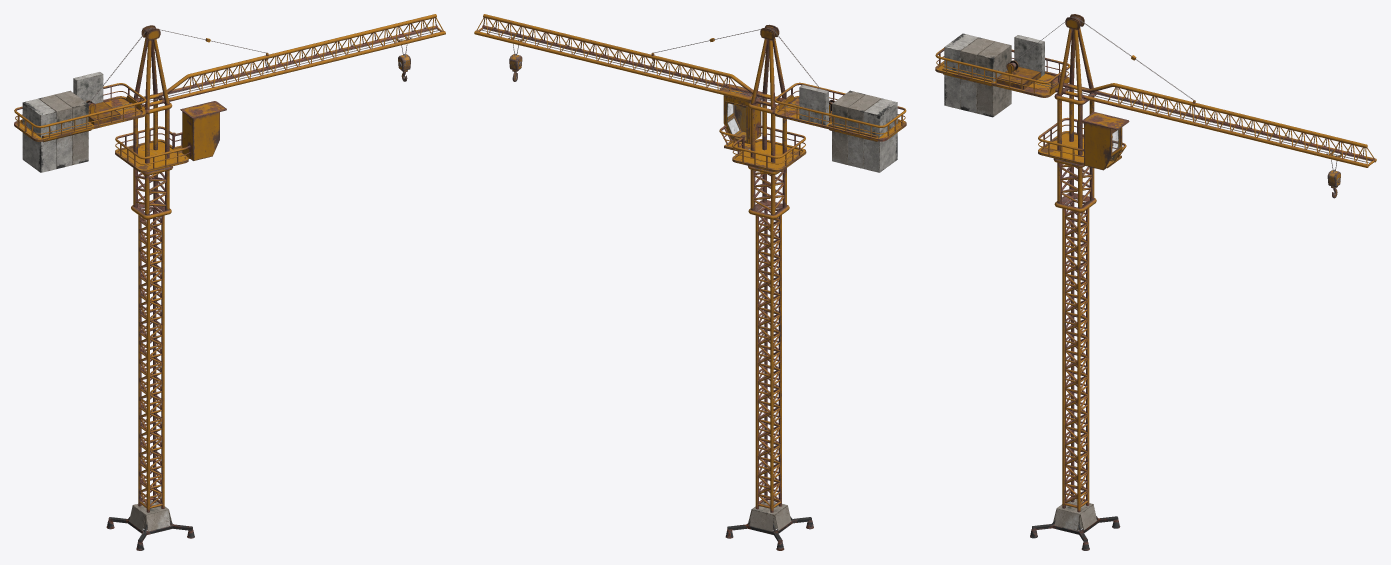
The model's file is grue.glb.
The picture shows the model from 3 angles, left to right: view 1: azimuth 30°, elevation 25°; view 2: azimuth 150°, elevation 25°; view 3: azimuth 330°, elevation 25°; orthographic projection. The views are drawn at different scales.
Visible parts, largest first — view 1: Body1, Concrete_Extra1, metal_small1; view 2: Body1, Concrete_Extra1, metal_small1; view 3: Body1, Concrete_Extra1, metal_small1.
Part boxes in pixels (<box>): Body1: <box>14,14,445,512</box>; Concrete_Extra1: <box>22,72,194,550</box>; metal_small1: <box>14,25,411,172</box>; Body1: <box>474,14,906,512</box>; Concrete_Extra1: <box>725,84,897,550</box>; metal_small1: <box>508,24,906,172</box>; Body1: <box>935,17,1376,512</box>; Concrete_Extra1: <box>944,33,1120,550</box>; metal_small1: <box>935,14,1341,198</box>.
Size of the model in its own units: 3276 by 3786 by 467.
3 materials, 3 textured.
